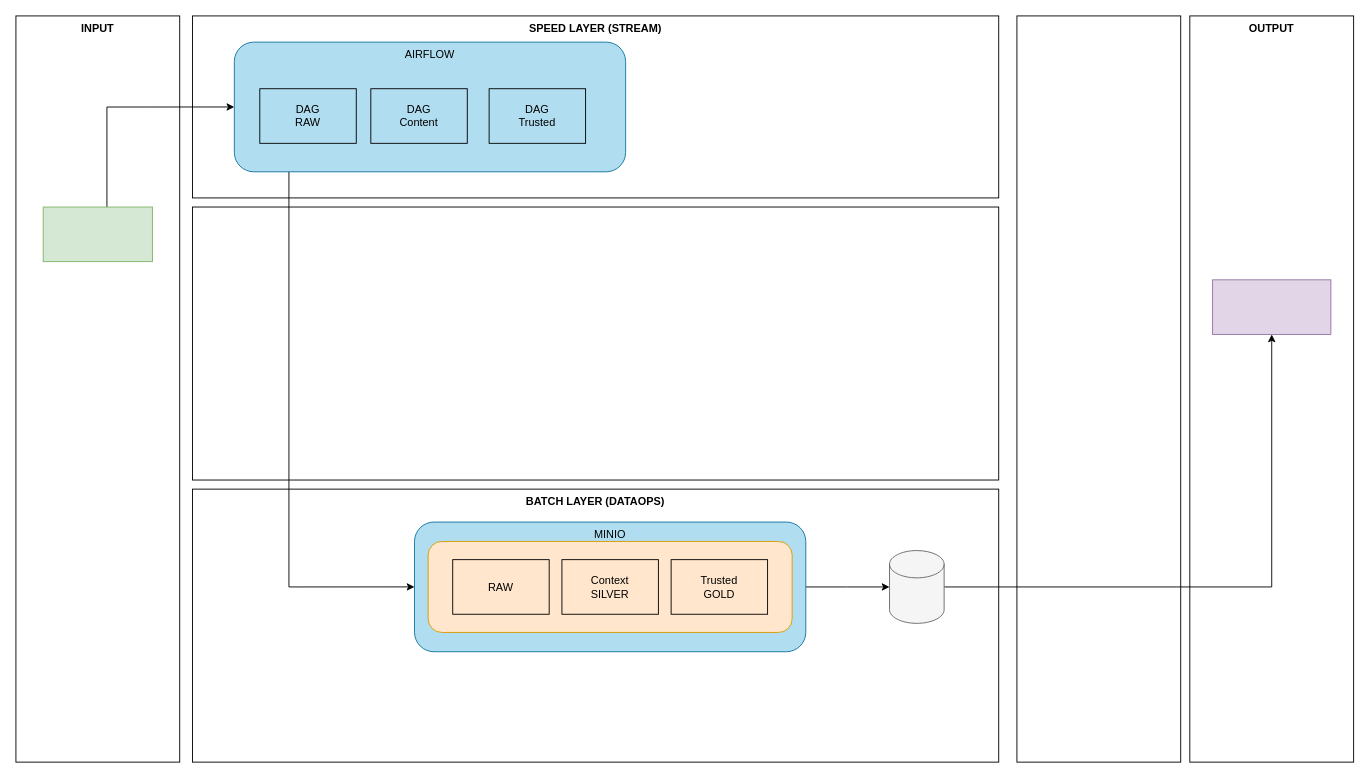
Image size: 1370x778. Some labels were removed from this diagram. The centre of each missing label's shape, as x and y in pixels:
"AWS S3" goes at (97,234).
"MACHINE LEARNING & AI (MLOPS)" goes at (595,343).
"METABASE Dashboard" goes at (1271,306).
"SERVER LAYER" goes at (1098,388).
"Trusted Postgre" goes at (916,586).
